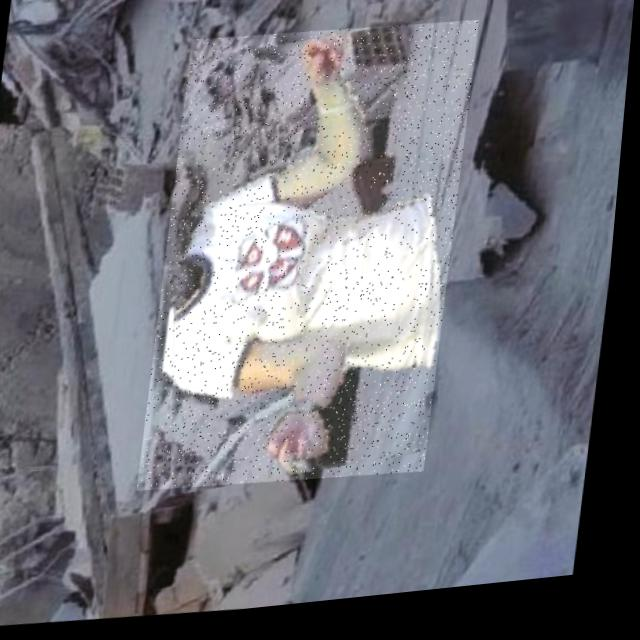Person in Rubble: (145, 19, 481, 504)
